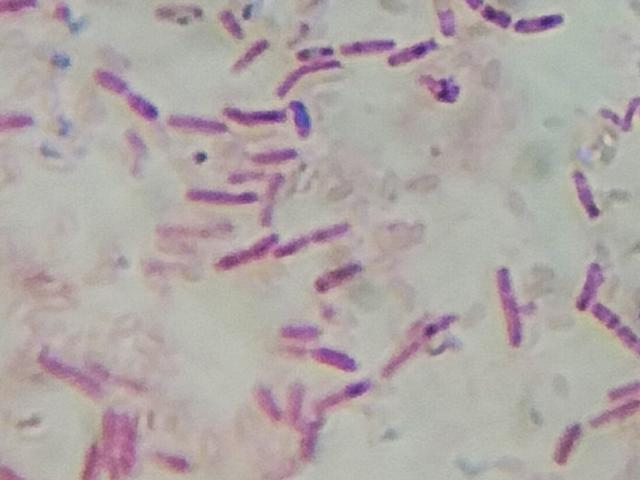E. coli: (380, 311, 464, 379), (489, 258, 528, 354), (96, 68, 156, 117), (284, 217, 354, 253), (281, 59, 340, 99), (316, 382, 374, 422), (596, 303, 640, 354), (284, 343, 357, 372), (573, 163, 604, 226), (220, 237, 274, 271), (41, 356, 91, 390), (545, 414, 582, 459), (316, 258, 366, 291), (189, 183, 254, 208), (86, 358, 140, 387), (568, 264, 602, 309), (386, 34, 433, 66), (221, 100, 286, 123), (0, 102, 44, 133), (151, 447, 194, 477), (165, 113, 214, 139), (593, 405, 637, 433), (516, 14, 565, 39), (276, 379, 305, 421), (245, 382, 276, 420), (121, 413, 141, 470), (229, 36, 263, 69), (156, 5, 202, 28), (478, 1, 513, 31), (341, 36, 392, 56), (278, 318, 325, 339), (251, 144, 297, 165), (266, 172, 285, 222), (219, 6, 248, 38), (99, 406, 120, 448), (292, 103, 317, 138), (302, 426, 320, 472), (604, 381, 639, 402), (82, 437, 101, 475), (297, 42, 331, 62), (623, 94, 640, 133), (434, 10, 457, 37), (229, 165, 262, 183), (599, 99, 619, 127), (462, 0, 483, 10)
